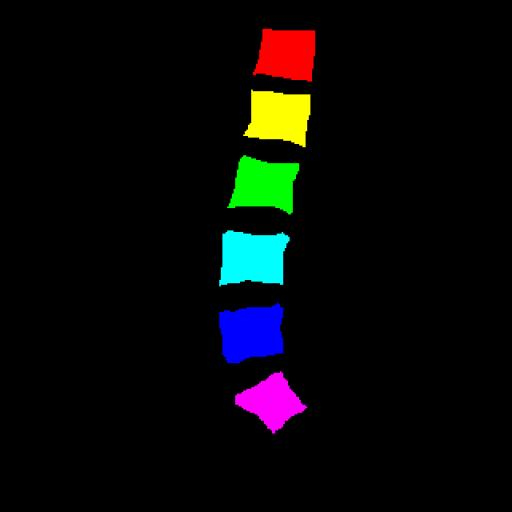L1: (253, 29, 315, 82)
L2: (244, 90, 310, 147)
L3: (228, 155, 299, 214)
L4: (219, 230, 290, 286)
L5: (219, 303, 283, 363)
S1: (235, 372, 307, 433)
